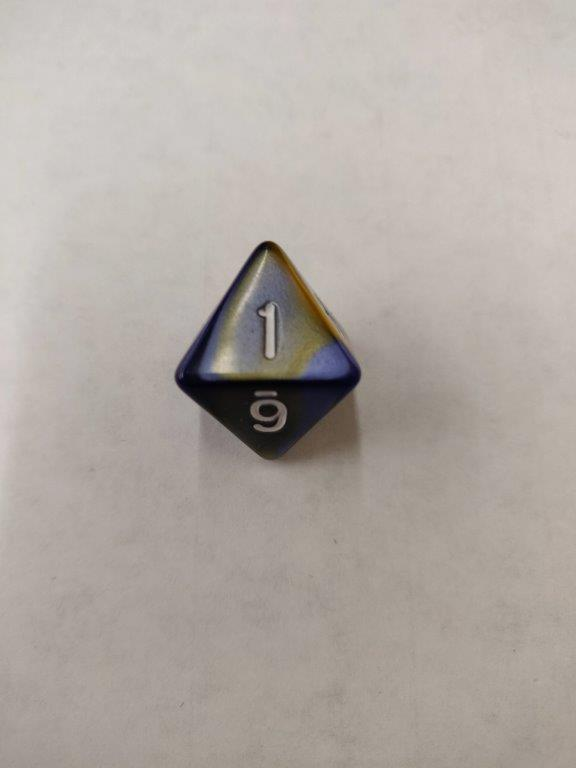d8-1: (165, 241, 362, 462)
